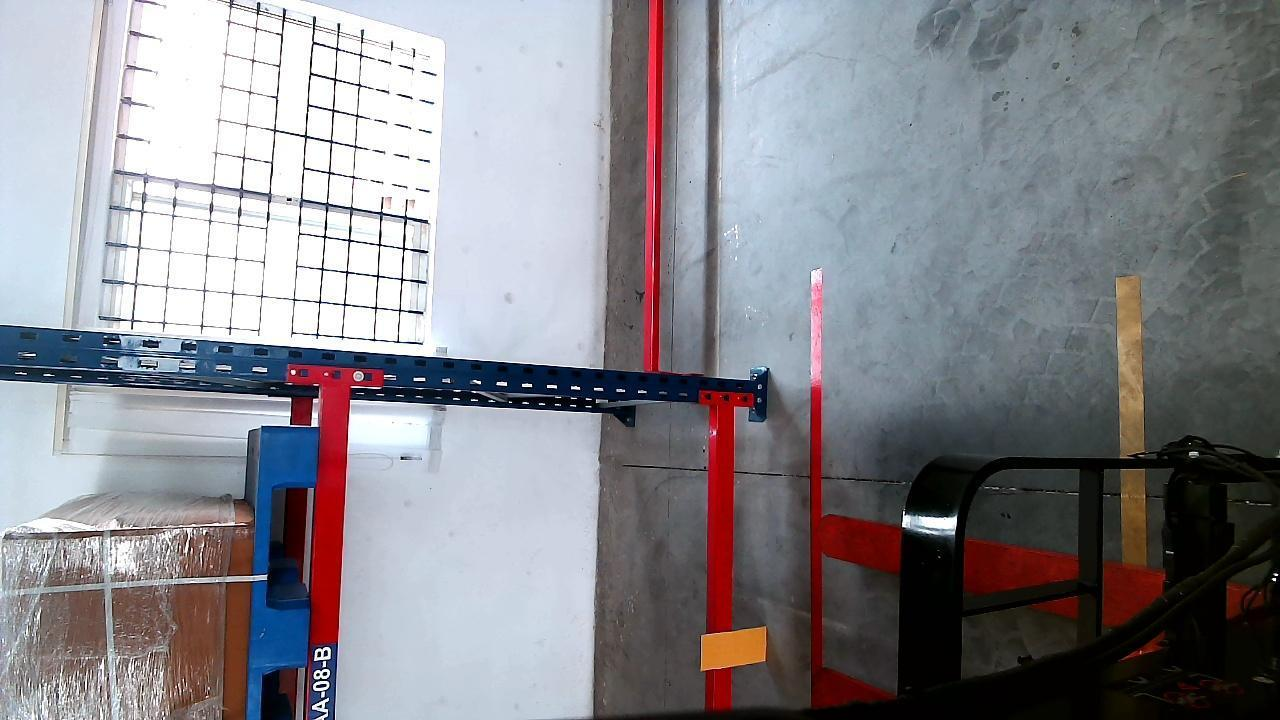h_rack: (309, 393, 353, 720), (708, 401, 738, 713)
orange_strip: (701, 627, 769, 670)
red_line: (804, 276, 831, 711)
small_pallet: (246, 418, 316, 720)
yellow_line: (1120, 258, 1146, 603)
